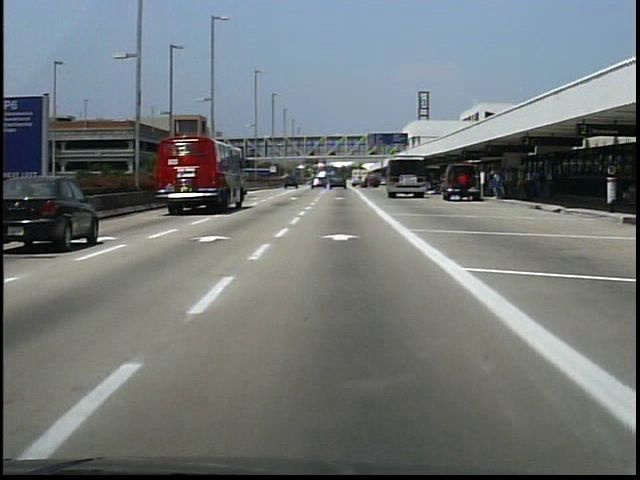person: (457, 166, 473, 204)
